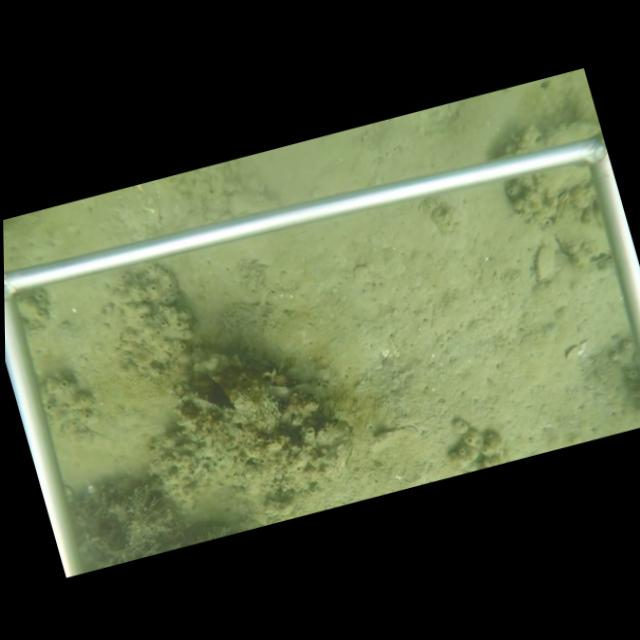Oyster-Closed: (184, 391, 241, 422)
Oyster-Indeterminate: (533, 243, 556, 285)
